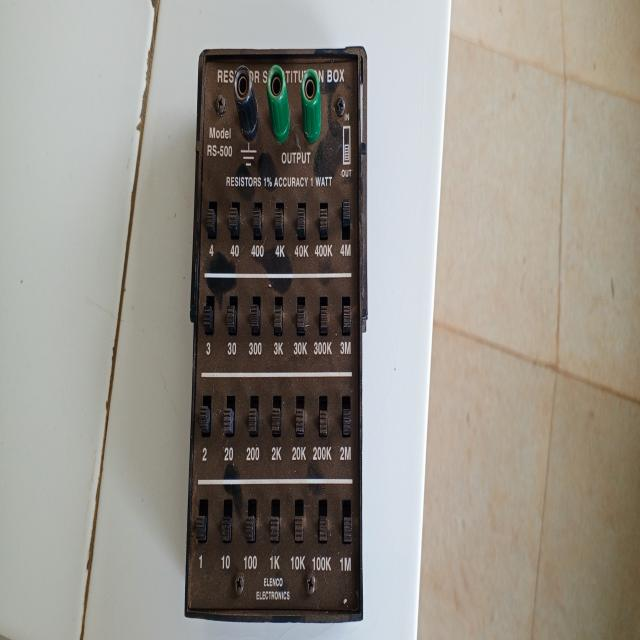Set of Resistances: (175, 25, 378, 640)
